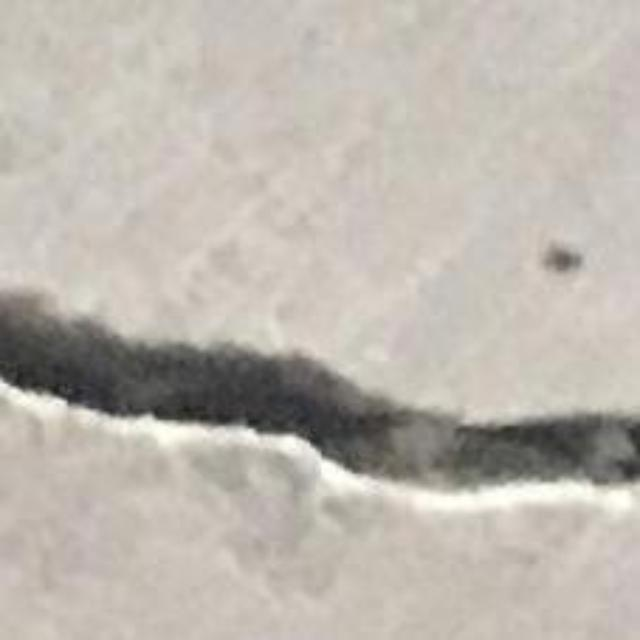crack: (0, 291, 639, 487)
